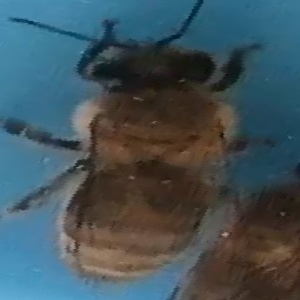bee: (2, 13, 262, 210)
